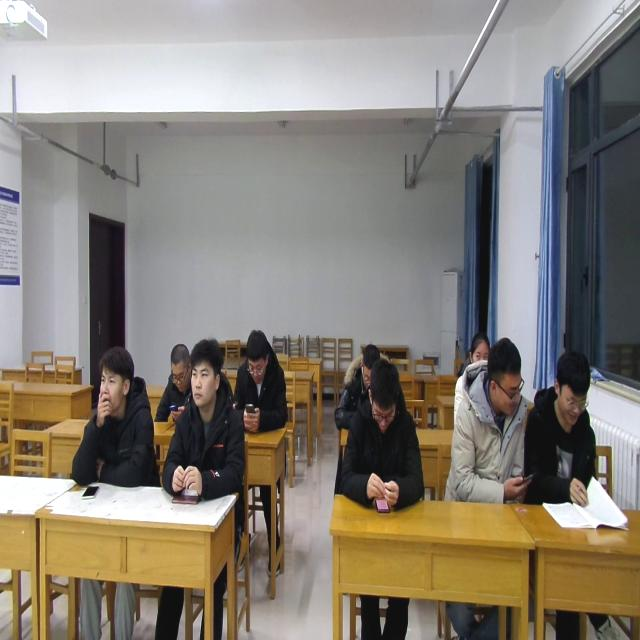bow: (232, 328, 290, 436), (332, 342, 386, 432)
down: (549, 342, 593, 431), (368, 356, 402, 436), (243, 324, 272, 386), (168, 336, 190, 392), (356, 338, 380, 389)
lookup: (184, 332, 224, 412), (96, 342, 136, 418), (466, 327, 491, 369)
sit: (161, 338, 247, 500), (446, 334, 526, 506), (337, 358, 425, 511), (69, 344, 159, 492), (522, 350, 600, 506), (153, 340, 194, 424)
